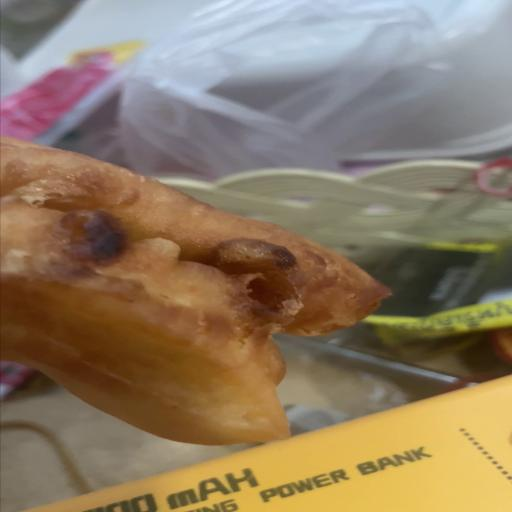street_burnt_defect: (0, 137, 389, 445)
